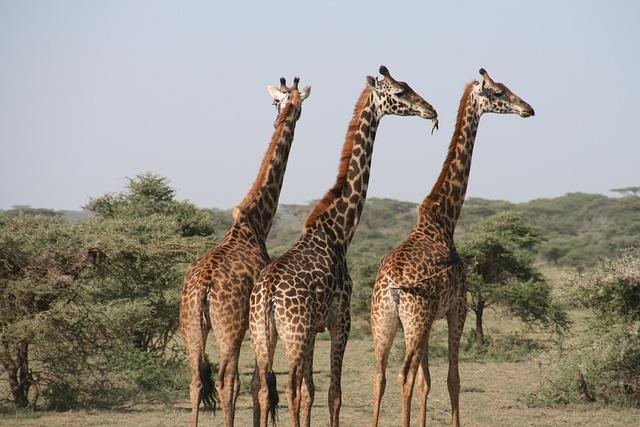Non_Gorille: (140, 45, 585, 427)
